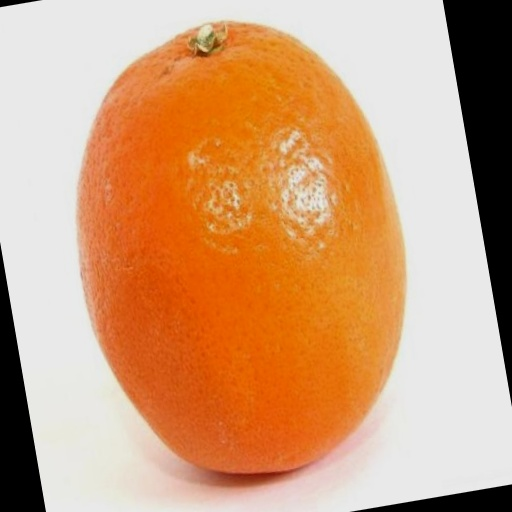fruit: (77, 24, 404, 473)
